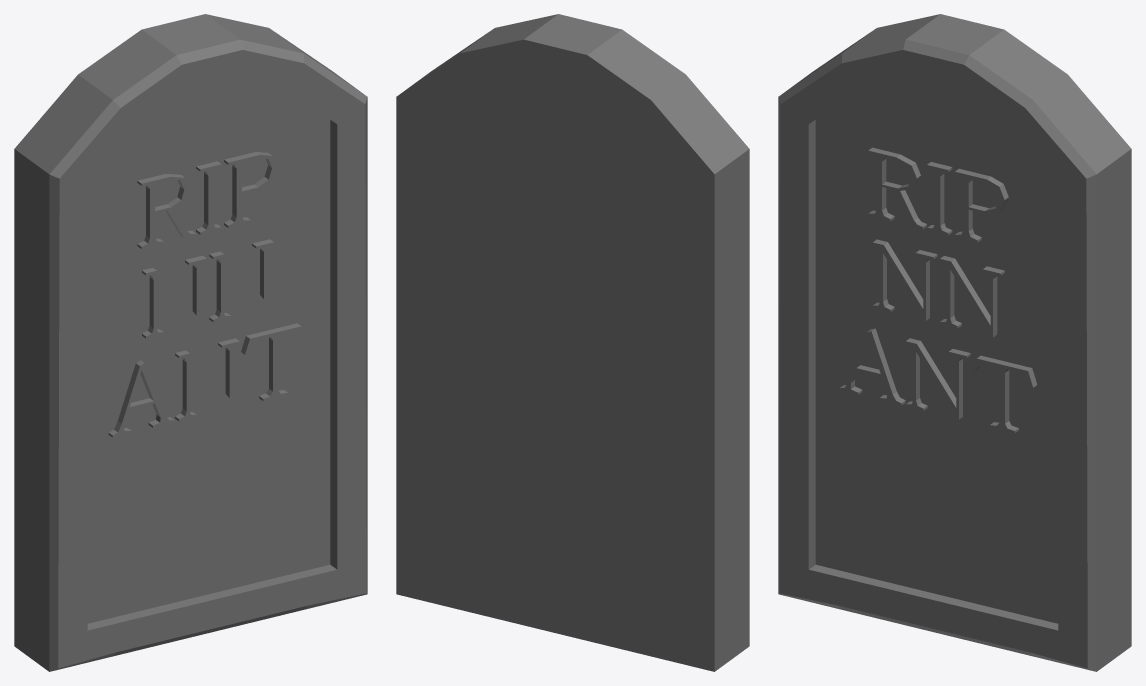
Rendered from tomb_stone.FBX.
3 renders of one model, left to right at view 1: azimuth 30°, elevation 25°; view 2: azimuth 150°, elevation 25°; view 3: azimuth 330°, elevation 25°, orthographic.
Visible parts, largest first — view 1: Box007; view 2: Box007; view 3: Box007.
Part boxes in pixels (<box>): Box007: <box>14,14,367,671</box>; Box007: <box>396,14,749,671</box>; Box007: <box>778,14,1131,671</box>.
Size of the model in its own units: 367 by 646 by 77.7.
